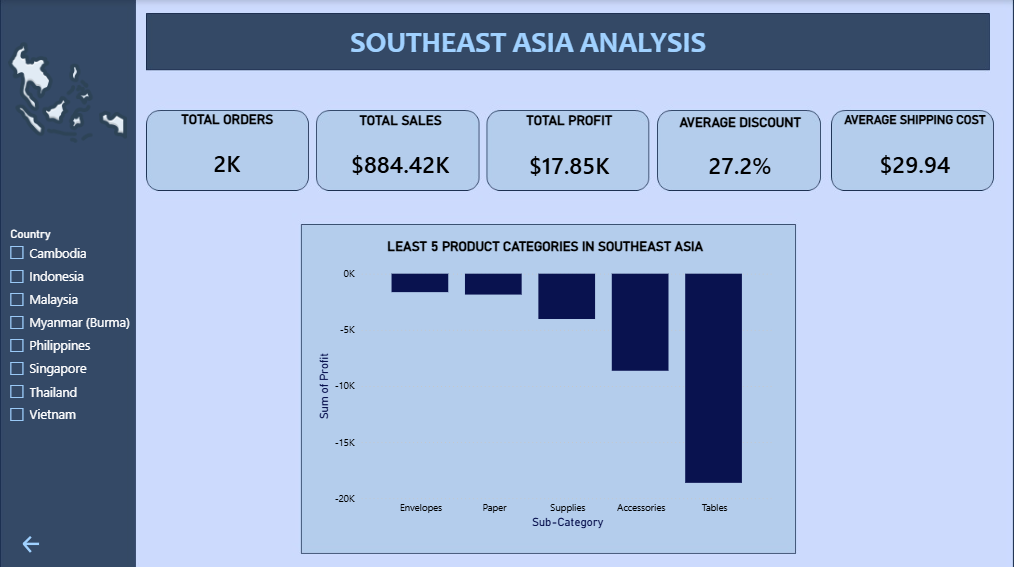

Layout of this report page (visuals, bound fields, positions):
{"tool":"powerbi","page":{"name":"Page 4","canvas":[1280,720],"ordinal":3},"visuals":[{"type":"clusteredColumnChart","title":"LEAST 5 PRODUCT CATEGORIES IN SOUTHEAST ASIA","fields":{"Category":["Orders.Sub-Category"],"Y":["Sum(Orders.Profit)"]},"box":[395,300.5,583.9,370.4],"z":0},{"type":"slicer","fields":{"Values":["Orders.Country"]},"box":[0,281.6,170.1,264.6],"z":1000},{"type":"cardVisual","title":"TOTAL ORDERS","fields":{"Data":["Measure Table.Total Orders"]},"box":[198.4,139.8,175.7,98.3],"z":2000},{"type":"cardVisual","title":"TOTAL SALES","fields":{"Data":["Measure Table.Total Sales"]},"box":[408.2,141.7,192.8,96.4],"z":3000},{"type":"cardVisual","title":"TOTAL PROFIT","fields":{"Data":["Measure Table.Total Profit"]},"box":[616.1,141.7,202.2,100.2],"z":4000},{"type":"cardVisual","title":"AVERAGE DISCOUNT","fields":{"Data":["Measure Table.Average Discount"]},"box":[831.5,143.6,202.2,94.5],"z":5000},{"type":"cardVisual","title":"AVERAGE SHIPPING COST","fields":{"Data":["Measure Table.Average Shipping Cost"]},"box":[1052.6,141.7,200.3,98.3],"z":6000},{"type":"textbox","box":[374.2,24.6,582.1,62.4],"z":7000},{"type":"actionButton","box":[24.6,670.9,33,30],"z":8000},{"type":"image","box":[0,41.6,170,150],"z":9000}]}

Visuals, with their boxes in screenshot pixels (x1, y1, x2, y2), scaled from the page's 1280x720 canvas onto the 1014x567 screenshot:
"LEAST 5 PRODUCT CATEGORIES IN SOUTHEAST ASIA" clusteredColumnChart: rect(313, 237, 775, 528)
slicer - Orders.Country: rect(0, 222, 135, 430)
"TOTAL ORDERS" cardVisual: rect(157, 110, 296, 188)
"TOTAL SALES" cardVisual: rect(323, 112, 476, 188)
"TOTAL PROFIT" cardVisual: rect(488, 112, 648, 190)
"AVERAGE DISCOUNT" cardVisual: rect(659, 113, 819, 188)
"AVERAGE SHIPPING COST" cardVisual: rect(834, 112, 993, 189)
textbox: rect(296, 19, 758, 69)
actionButton: rect(19, 528, 46, 552)
image: rect(0, 33, 135, 151)
